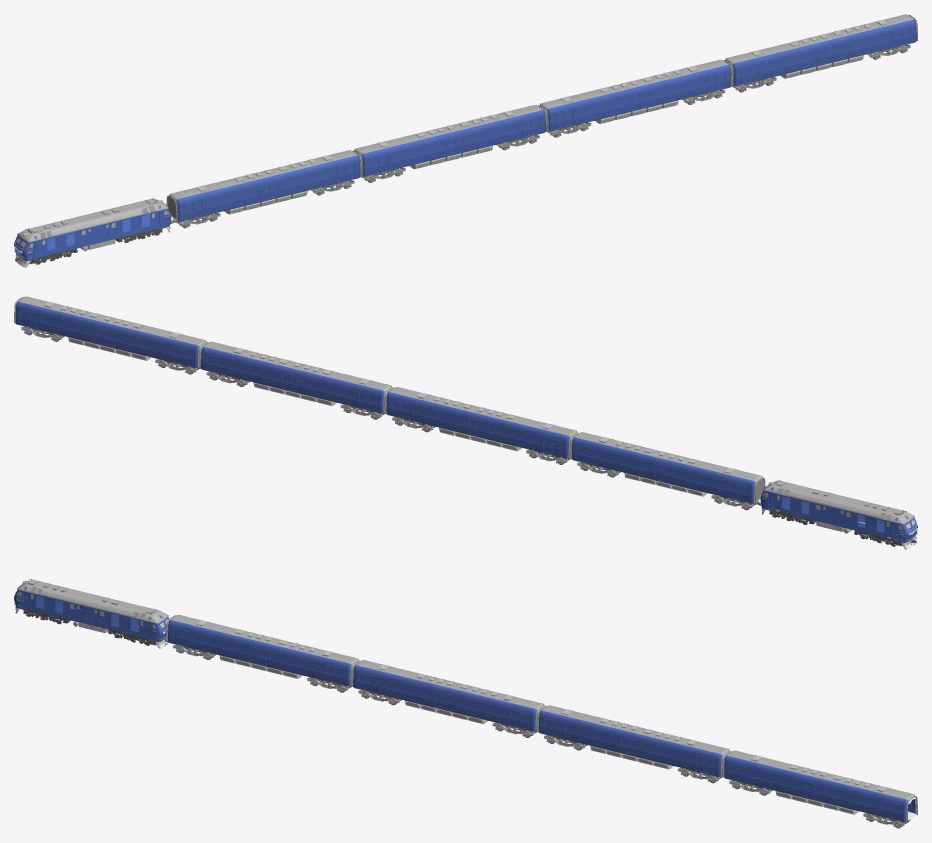
Rendered from train.glb.
3 renders of one model, top to bottom at view 1: azimuth 30°, elevation 25°; view 2: azimuth 150°, elevation 25°; view 3: azimuth 330°, elevation 25°, orthographic.
Parts seen in each view (by area): view 1: Obj3d66-660952-51-359, Obj3d66-660952-63-48, Obj3d66-660952-64-860, Obj3d66-660952-50-262, Obj3d66-660952-52-280, Obj3d66-660952-61-830; view 2: Obj3d66-660952-51-359, Obj3d66-660952-63-48, Obj3d66-660952-64-860, Obj3d66-660952-50-262, Obj3d66-660952-52-280, Obj3d66-660952-61-830; view 3: Obj3d66-660952-64-860, Obj3d66-660952-50-262, Obj3d66-660952-51-359, Obj3d66-660952-63-48, Obj3d66-660952-52-280, Obj3d66-660952-61-830.
Boxes of the visible parts, x1,y1,x2,y2 form: Obj3d66-660952-51-359: (166, 150, 361, 228); Obj3d66-660952-63-48: (539, 59, 732, 137); Obj3d66-660952-64-860: (725, 14, 917, 92); Obj3d66-660952-50-262: (354, 105, 546, 182); Obj3d66-660952-52-280: (14, 198, 171, 260); Obj3d66-660952-61-830: (15, 226, 170, 267); Obj3d66-660952-51-359: (570, 432, 765, 510); Obj3d66-660952-63-48: (199, 341, 392, 419); Obj3d66-660952-64-860: (14, 296, 206, 374); Obj3d66-660952-50-262: (384, 387, 577, 464); Obj3d66-660952-52-280: (760, 480, 917, 542); Obj3d66-660952-61-830: (761, 507, 917, 549); Obj3d66-660952-64-860: (722, 750, 917, 828); Obj3d66-660952-50-262: (351, 660, 544, 737); Obj3d66-660952-51-359: (166, 614, 359, 692); Obj3d66-660952-63-48: (537, 705, 729, 783); Obj3d66-660952-52-280: (14, 578, 169, 642); Obj3d66-660952-61-830: (15, 601, 168, 648).
Bounding box in the file's own units: 124 × 4.49 × 3.02.
